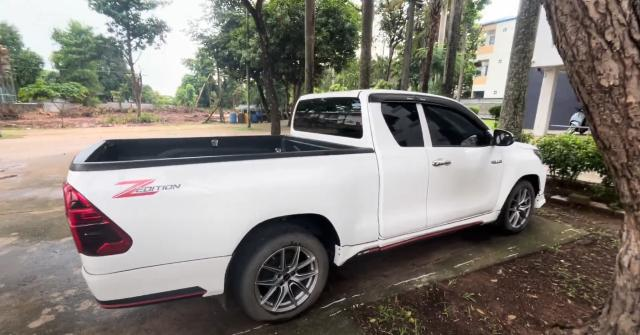pickup-truck: (61, 87, 546, 325)
